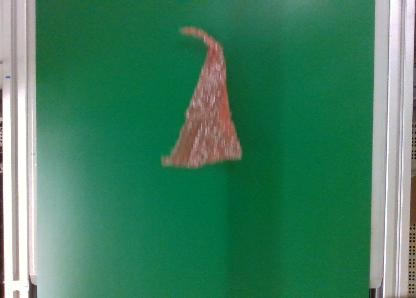Others: (158, 22, 244, 170)
